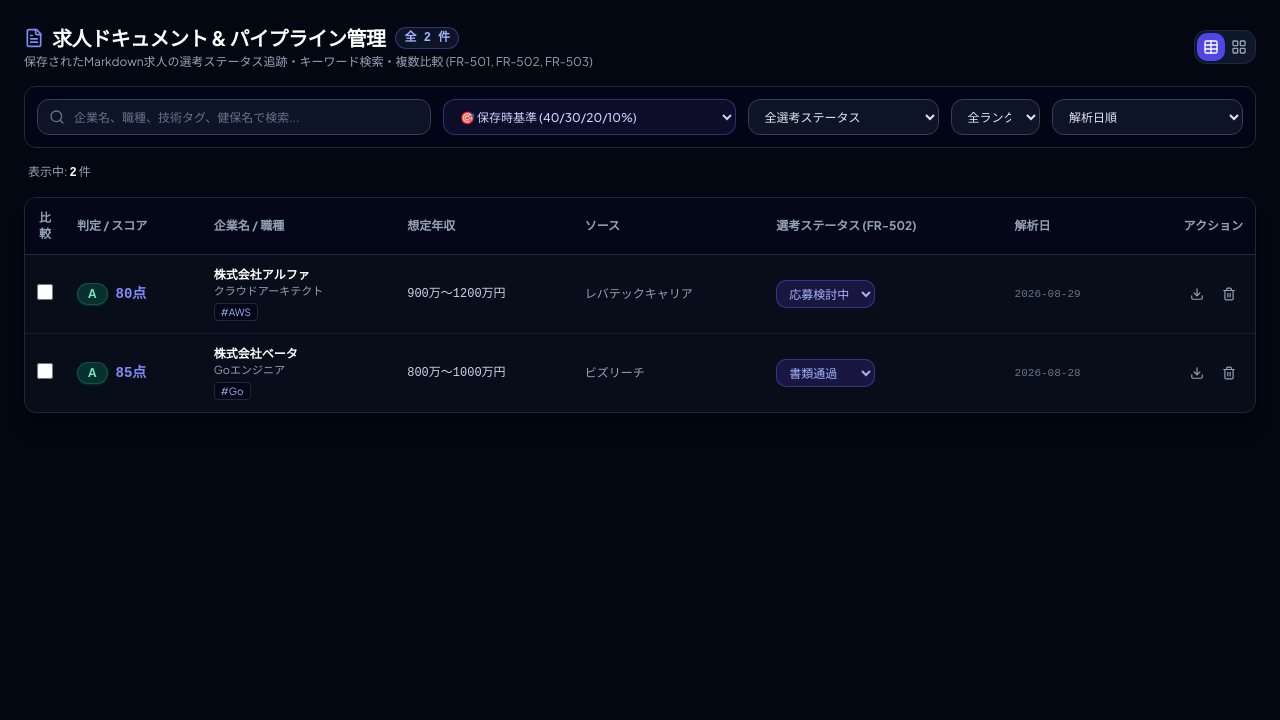
Scenario: JobDashboard Re-evaluation Features › opens batch re-evaluation modal when jobs are selected and button is clicked
// Select 2 jobs
Step 1. Click the checkbox named "比較対象に選択 (最大3件)" below "株式会社アルファ" → (45, 292), box [37,284,53,300]
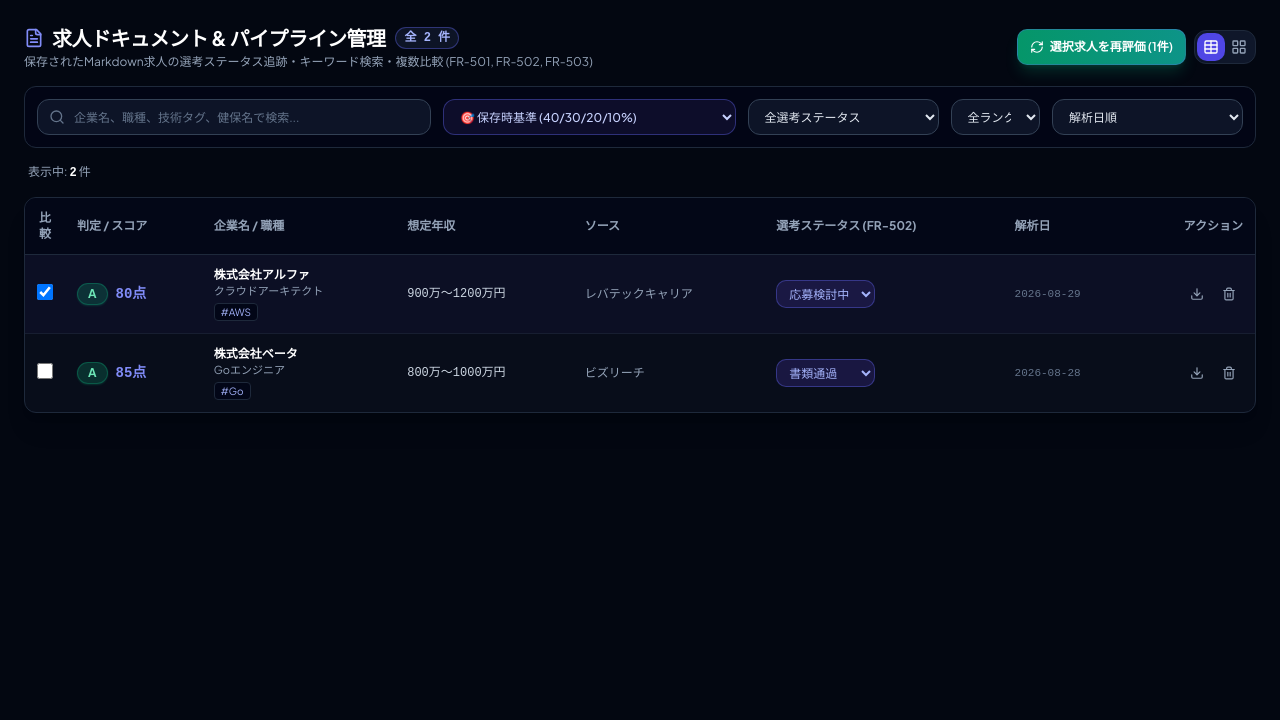
Step 2. Click the checkbox named "比較対象に選択 (最大3件)" in the row of "85" → (45, 371), box [37,363,53,379]
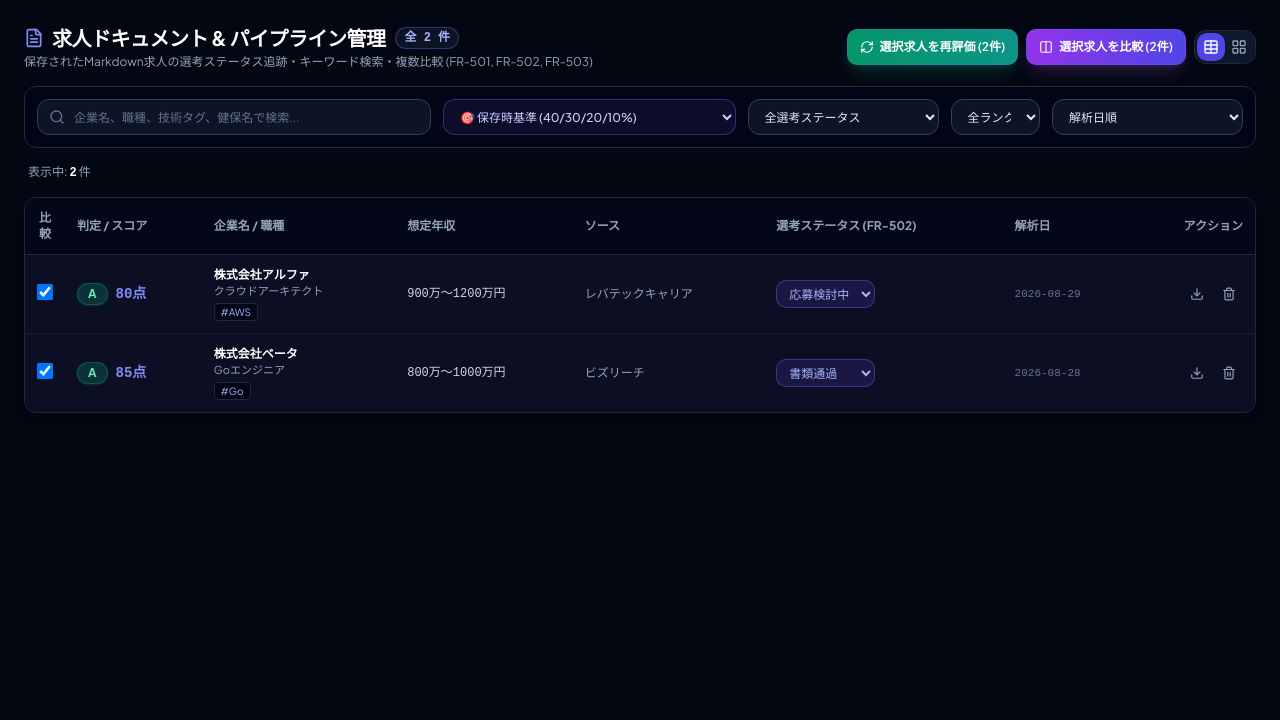
Expected: the button "選択求人を再評価 (2件)" is shown
// Click batch button
Step 3. Click the button "選択求人を再評価 (2件)" → (932, 47), box [846,29,1018,65]
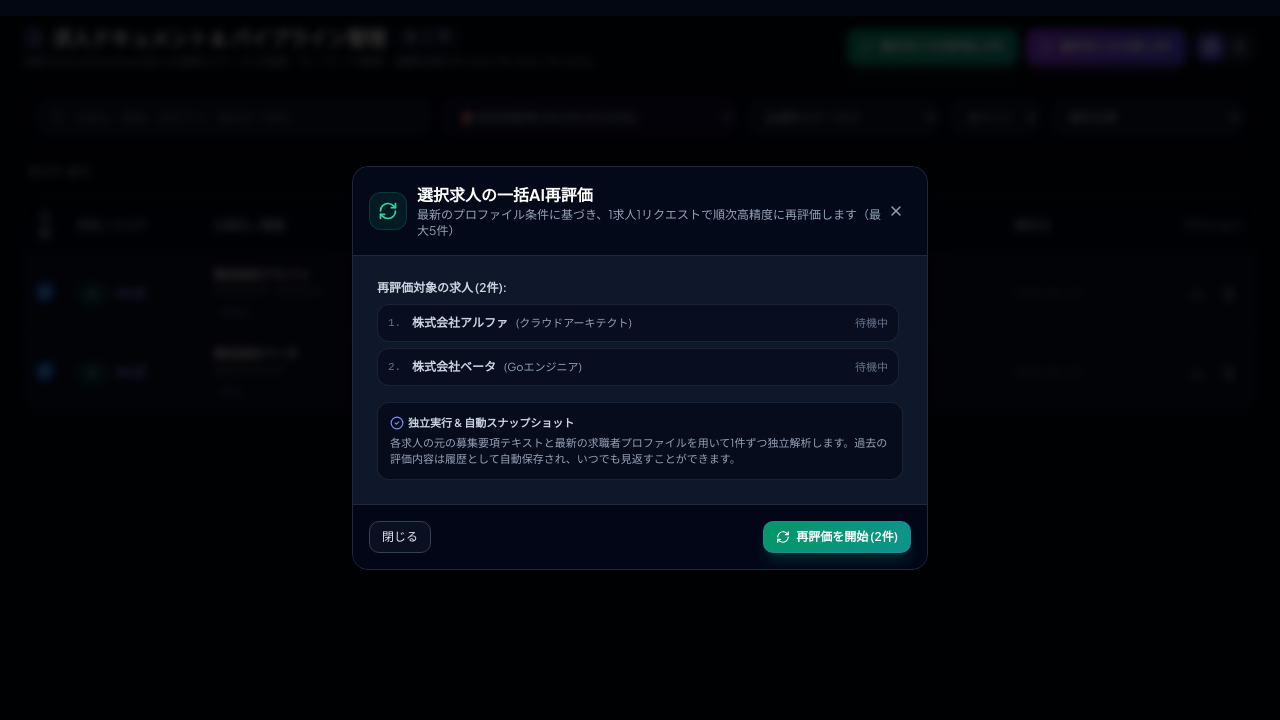
Expected: the heading "選択求人の一括AI再評価" is shown, [417,184,593,205]
Expected: the text "再評価対象の求人 (2件):" is shown, [377,280,507,295]
Expected: the button "再評価を開始 (2件)" is shown, [763,521,911,553]
